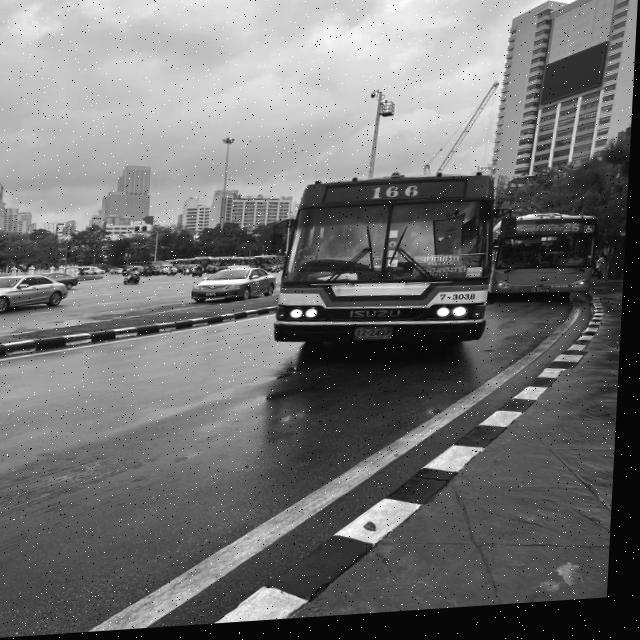BMTA-bus: (274, 168, 504, 366), (493, 217, 604, 314)
Bus-Line-Number: (367, 187, 426, 208), (565, 229, 584, 242)
Destination-Sign-Extra-Bus: (415, 259, 473, 289)
Destination-Sign-Normal: (562, 265, 588, 276)
